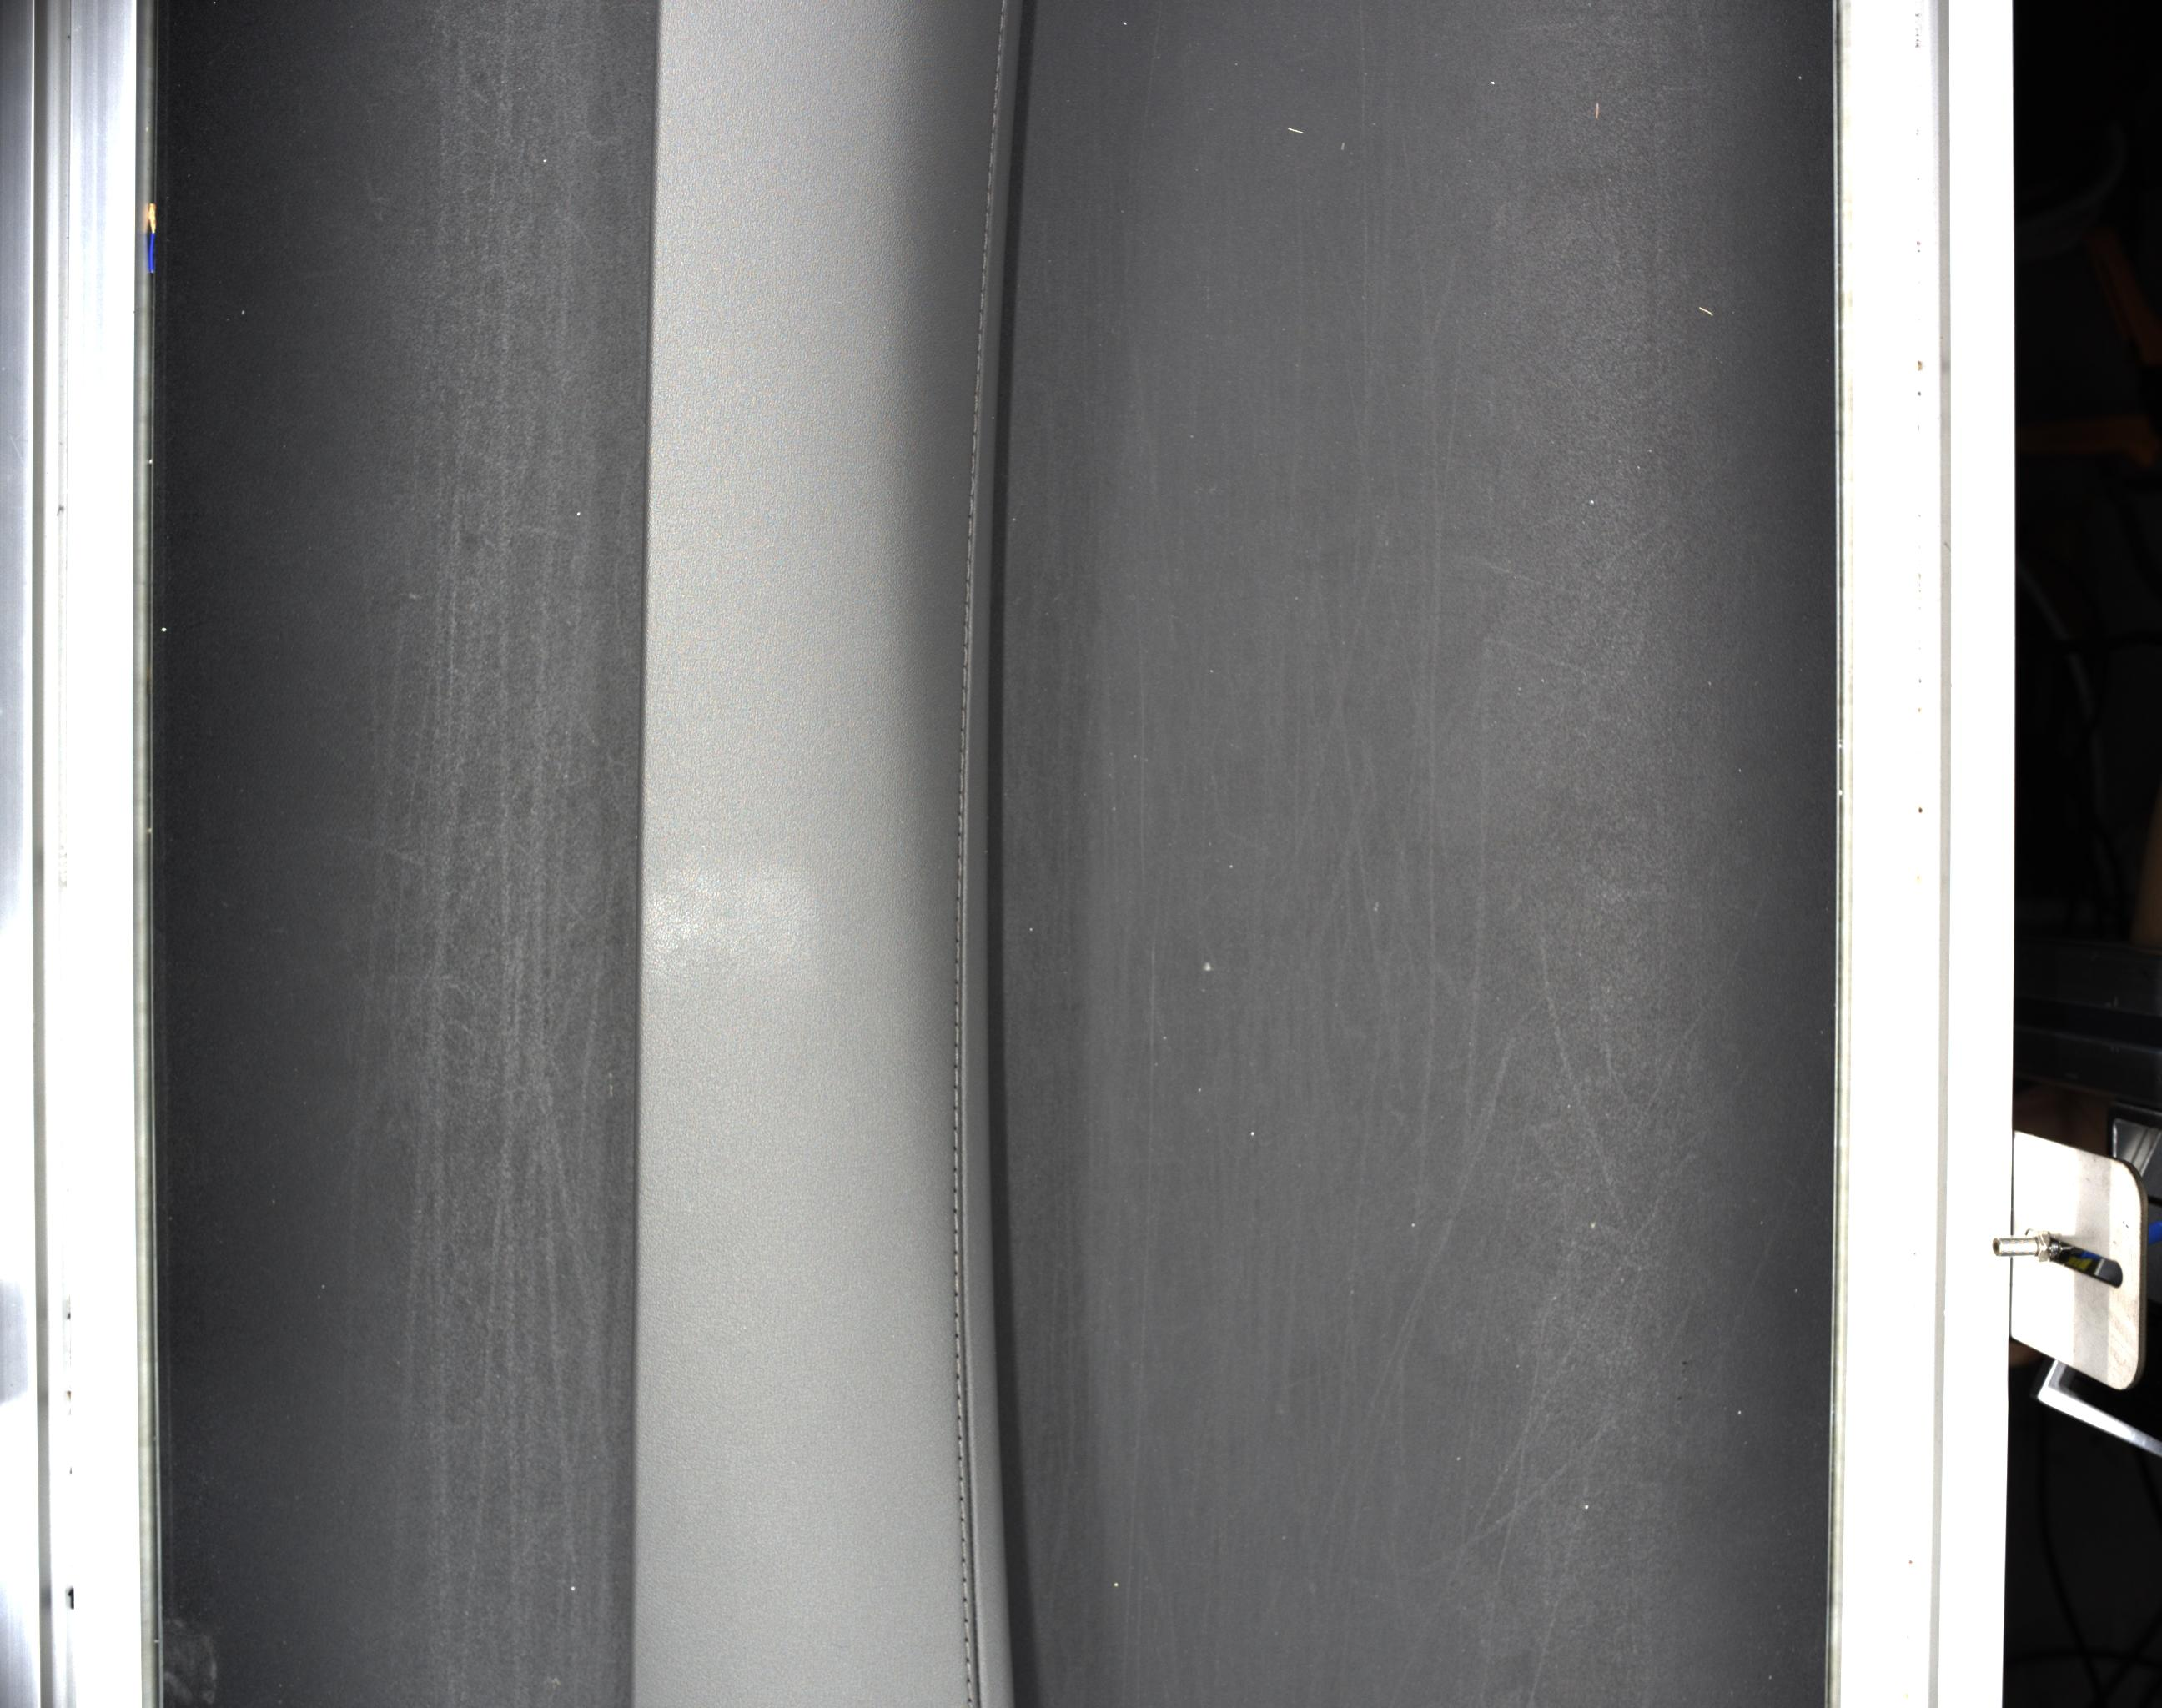vline: (958, 753, 965, 771), (953, 1130, 960, 1148), (953, 1152, 960, 1169), (953, 1274, 960, 1292), (960, 1541, 967, 1559), (997, 16, 1004, 32), (956, 837, 963, 853), (956, 881, 963, 897), (955, 965, 962, 981), (953, 1215, 960, 1231), (965, 1682, 972, 1697), (979, 272, 984, 291), (974, 374, 979, 393), (965, 560, 970, 579), (963, 583, 969, 602), (962, 669, 967, 688), (960, 732, 965, 751), (958, 774, 963, 793), (953, 1111, 960, 1125), (960, 1562, 967, 1576), (995, 54, 1000, 72), (972, 416, 977, 434), (970, 435, 976, 453), (967, 520, 972, 537), (967, 539, 972, 556), (963, 648, 969, 665), (962, 711, 967, 728), (958, 816, 963, 834), (955, 1008, 960, 1025), (955, 1027, 960, 1044), (953, 1088, 958, 1106), (953, 1234, 958, 1252), (953, 1255, 958, 1273), (956, 1439, 962, 1457), (960, 1522, 965, 1539), (992, 114, 997, 130), (988, 151, 993, 167), (986, 193, 992, 209), (981, 253, 986, 269), (976, 355, 981, 370), (970, 456, 976, 472), (963, 606, 969, 621), (958, 797, 963, 813), (956, 904, 962, 920), (953, 1194, 958, 1209), (955, 1318, 960, 1334), (955, 1338, 960, 1353), (955, 1359, 960, 1374), (958, 1460, 963, 1476), (962, 1582, 967, 1597), (963, 1603, 969, 1618), (993, 75, 999, 90), (990, 133, 995, 147), (956, 927, 962, 941), (955, 988, 960, 1002), (955, 1297, 960, 1311), (956, 1381, 962, 1396), (956, 1401, 962, 1415), (956, 1420, 962, 1434), (958, 1482, 963, 1496), (958, 1503, 963, 1517), (963, 1622, 969, 1636), (963, 1641, 969, 1655), (977, 332, 981, 351), (974, 395, 977, 414), (1000, 0, 1006, 12), (955, 946, 960, 958), (965, 1662, 970, 1675), (997, 35, 1000, 53), (988, 170, 992, 188), (983, 233, 986, 251), (979, 312, 983, 330), (970, 476, 974, 493), (969, 499, 972, 516), (962, 690, 965, 707), (958, 858, 962, 876), (955, 1048, 958, 1066), (993, 95, 997, 111), (979, 293, 983, 309), (963, 627, 967, 642), (955, 1173, 958, 1188), (984, 214, 988, 228), (955, 1071, 958, 1085)
